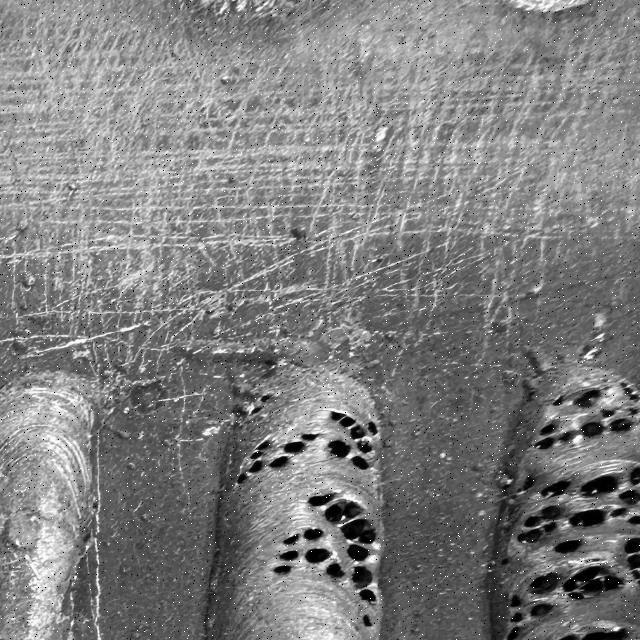Excess Reinforcement: (172, 338, 362, 376)
Porosity: (273, 492, 380, 605), (308, 492, 377, 544), (328, 411, 378, 469), (563, 565, 623, 599), (533, 422, 580, 450), (560, 626, 638, 640), (340, 519, 377, 544), (582, 475, 618, 496), (530, 572, 562, 594), (570, 509, 607, 526), (573, 389, 602, 408), (610, 508, 640, 526), (540, 480, 570, 496), (625, 538, 640, 570), (352, 566, 372, 589), (620, 380, 640, 403), (250, 440, 272, 459), (328, 440, 350, 458), (332, 411, 355, 428), (347, 544, 368, 561), (555, 540, 582, 553), (582, 421, 605, 436), (343, 501, 363, 518), (618, 489, 640, 504), (305, 549, 330, 562), (517, 529, 542, 542), (530, 602, 553, 616), (325, 504, 343, 521), (542, 505, 563, 519), (610, 419, 633, 431), (327, 564, 345, 578), (283, 441, 305, 452), (625, 538, 640, 554), (628, 466, 640, 486), (270, 456, 290, 468), (357, 439, 373, 454), (350, 425, 367, 439), (523, 516, 542, 528), (360, 589, 377, 602), (303, 529, 323, 540), (507, 626, 522, 640), (352, 456, 368, 469), (280, 550, 298, 561), (248, 460, 263, 472), (273, 565, 292, 574), (283, 534, 300, 544), (510, 595, 523, 607), (367, 421, 378, 435), (543, 522, 557, 532), (510, 612, 523, 622), (600, 409, 615, 417), (302, 434, 318, 441), (553, 395, 563, 406), (628, 406, 640, 415), (260, 394, 273, 402), (237, 474, 248, 483), (250, 406, 262, 414)
Spatters: (372, 125, 390, 168), (20, 272, 37, 290), (13, 219, 28, 236), (290, 228, 307, 240), (220, 74, 237, 85), (583, 348, 598, 360), (65, 181, 80, 191), (593, 332, 605, 342)
